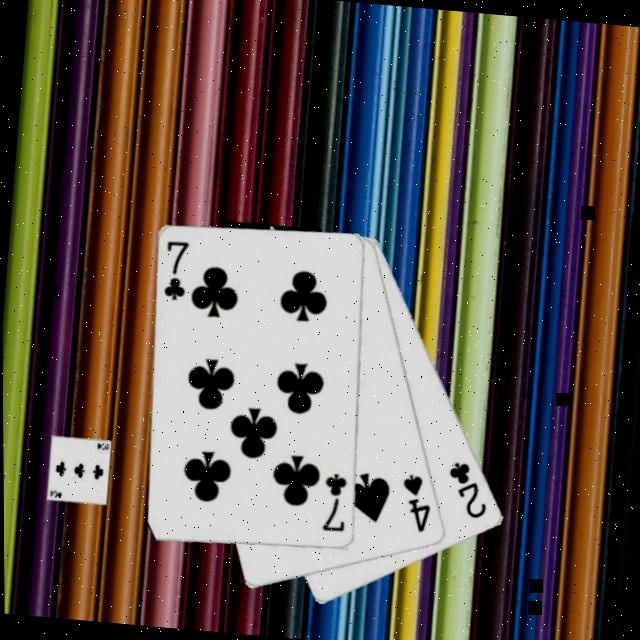2C: (439, 459, 490, 524)
4S: (393, 472, 434, 538)
7C: (156, 239, 189, 305), (316, 471, 348, 537)
